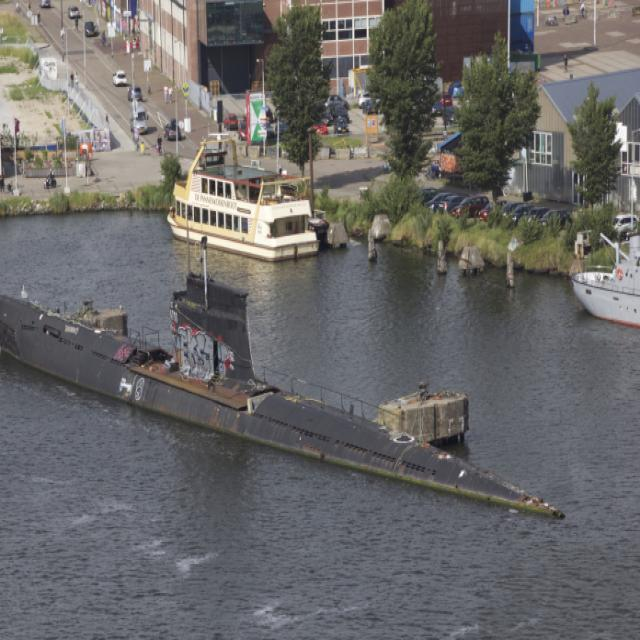submarine: (1, 273, 567, 520)
